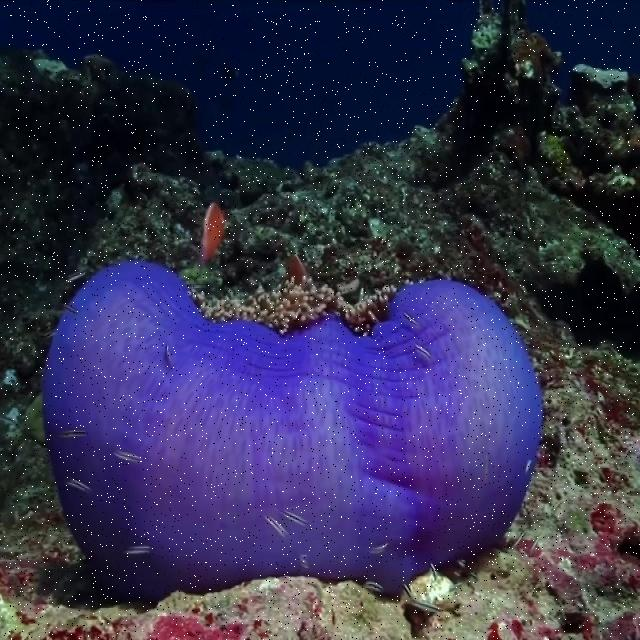aquatic plants: (197, 284, 396, 332)
fish: (204, 206, 225, 261)
reefs: (45, 263, 544, 602)
sea-floor: (0, 12, 639, 638)
